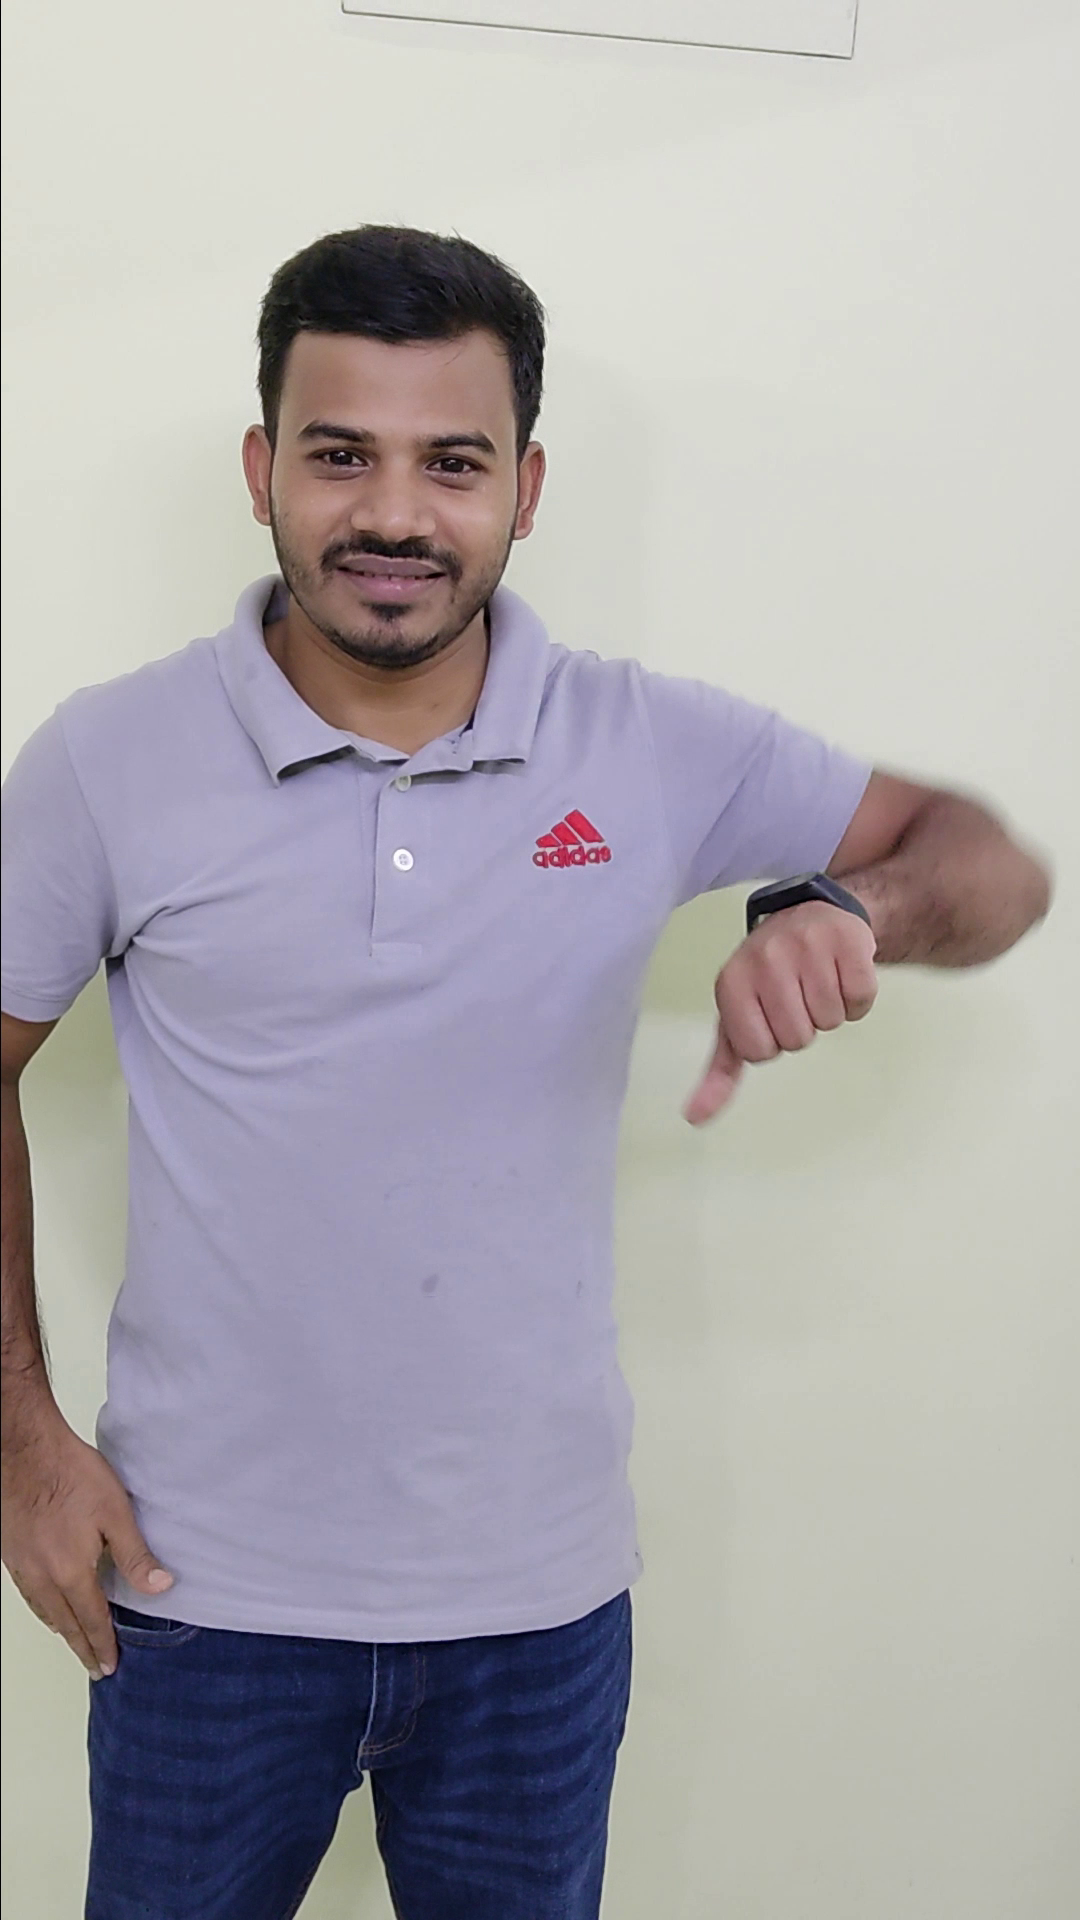Dislike: (633, 862, 926, 1147)
None: (3, 1393, 189, 1683)
